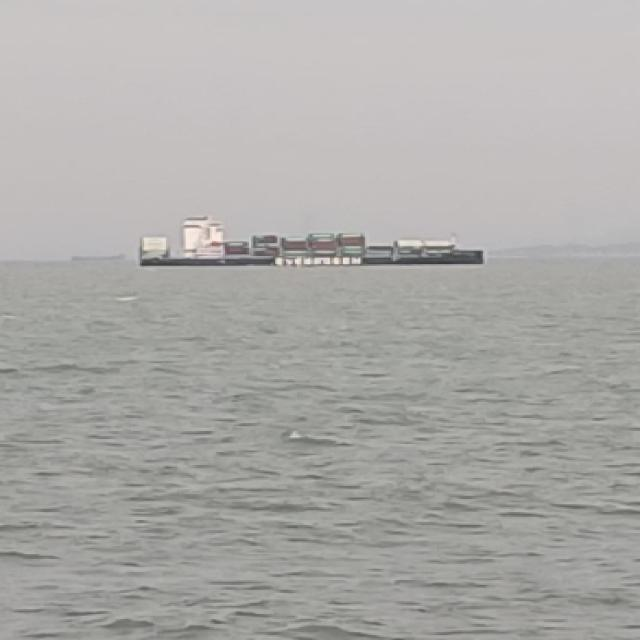cargoship: (133, 212, 500, 279)
